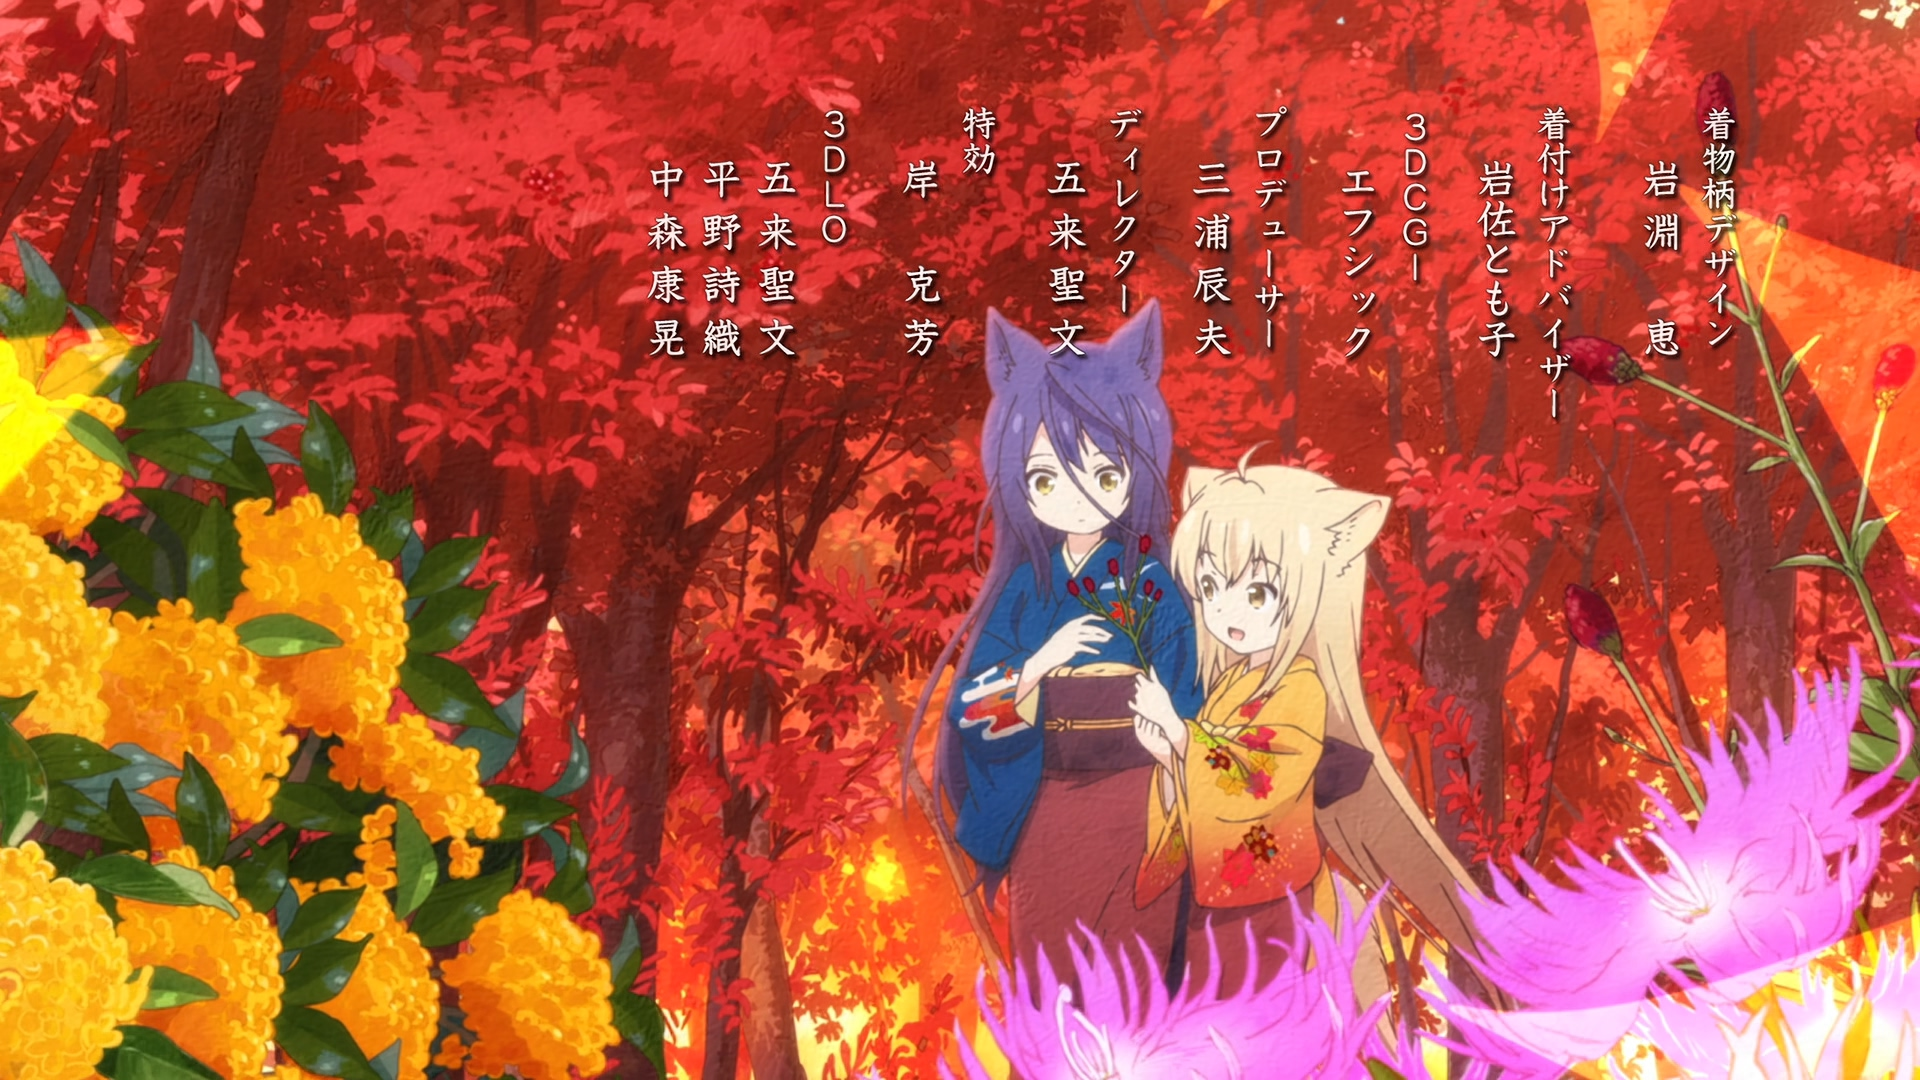柚: (1130, 443, 1520, 1080)
皋: (898, 299, 1209, 1080)
